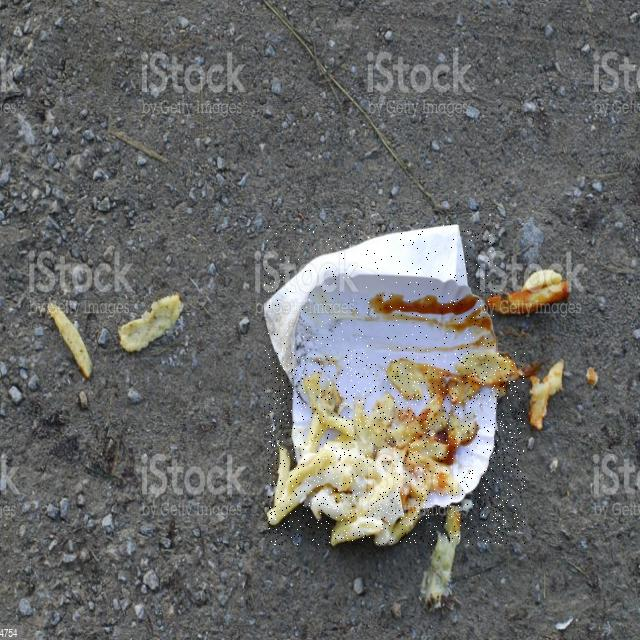biowaste: (269, 352, 525, 545)
paper: (265, 224, 497, 460), (411, 386, 497, 508)
